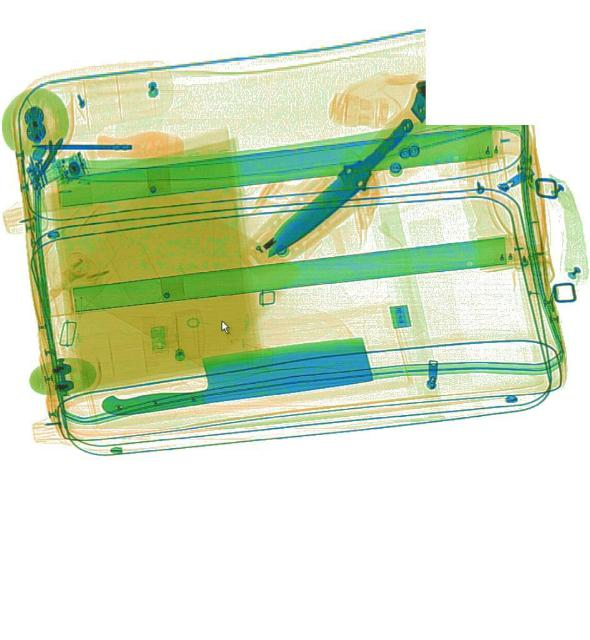Knife: (95, 332, 374, 422), (256, 112, 420, 264)
